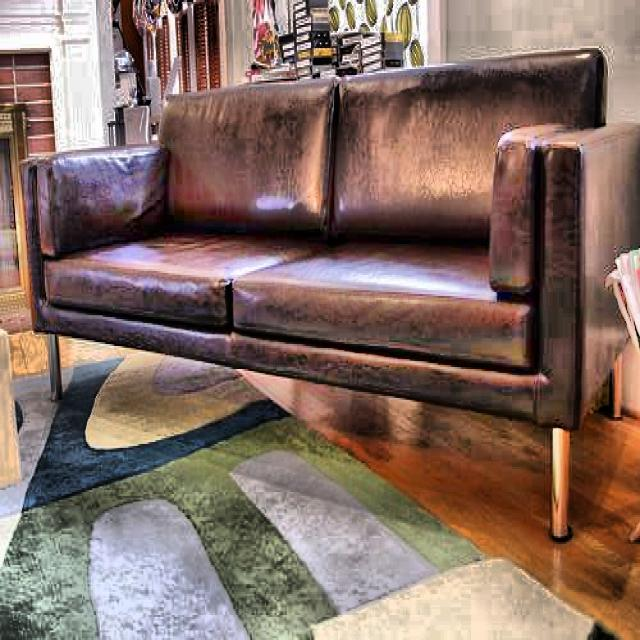sofa: (18, 50, 640, 542)
